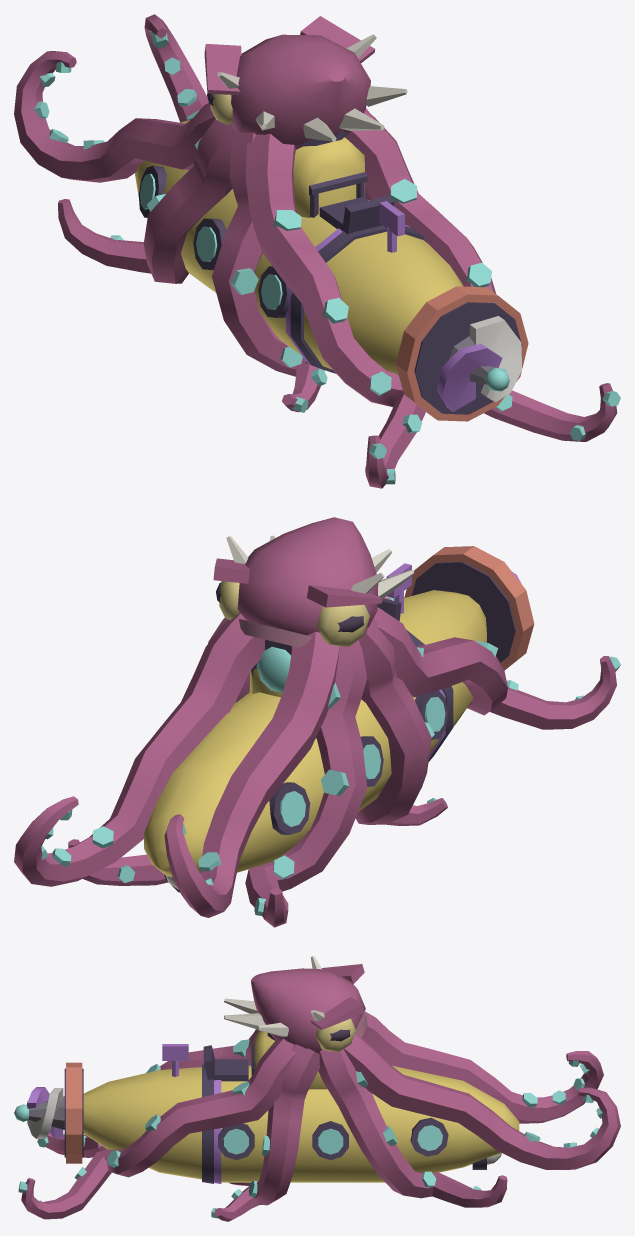
Rendered from AbyssKing.glb.
3 renders of one model, top to bottom at view 1: azimuth 30°, elevation 25°; view 2: azimuth 150°, elevation 25°; view 3: azimuth 270°, elevation 25°, orthographic. The views are drawn at different scales.
Parts seen in each view (by area): view 1: Hull, Hull_Glow, Prop, Seat; view 2: Hull, Hull_Glow; view 3: Hull, Hull_Glow, Prop, Seat.
Part boxes in pixels (x1,y1,x2,y2): Hull: [14, 14, 617, 488]; Hull_Glow: [33, 31, 620, 484]; Prop: [437, 316, 522, 411]; Seat: [309, 172, 394, 234]; Hull: [14, 517, 616, 927]; Hull_Glow: [41, 581, 620, 915]; Hull: [21, 956, 620, 1221]; Hull_Glow: [18, 1018, 602, 1218]; Prop: [27, 1087, 64, 1138]; Seat: [203, 1043, 255, 1081].
Size of the model in its own units: 20.01 by 24.78 by 59.85.
